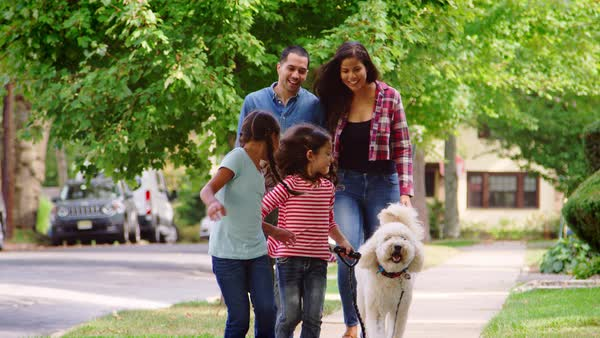Person: (313, 37, 418, 338), (195, 107, 295, 338), (262, 115, 359, 338), (231, 42, 329, 182)
